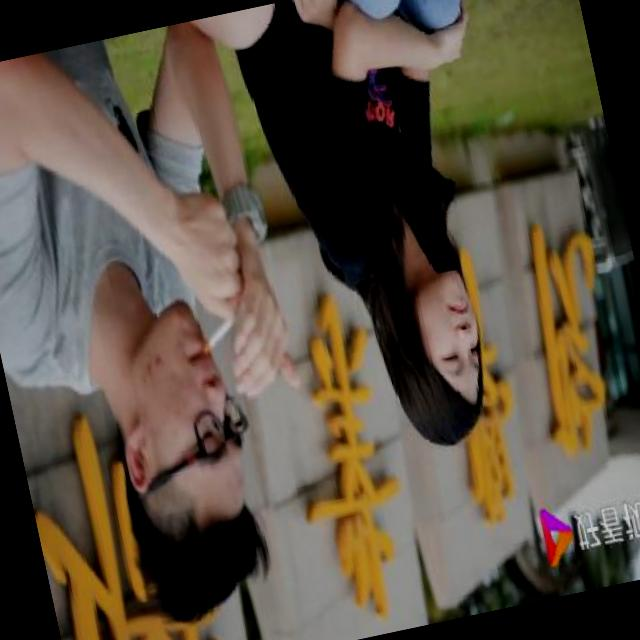cigarette: (192, 300, 250, 366)
